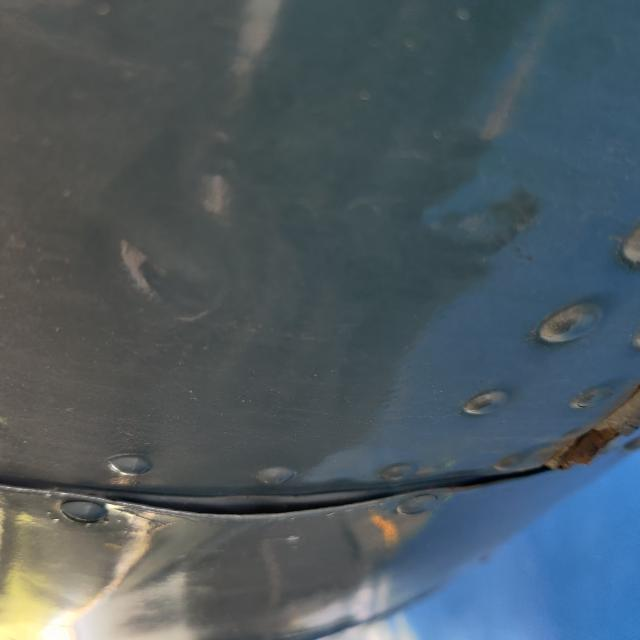dent: (294, 102, 429, 241), (373, 412, 476, 552)
